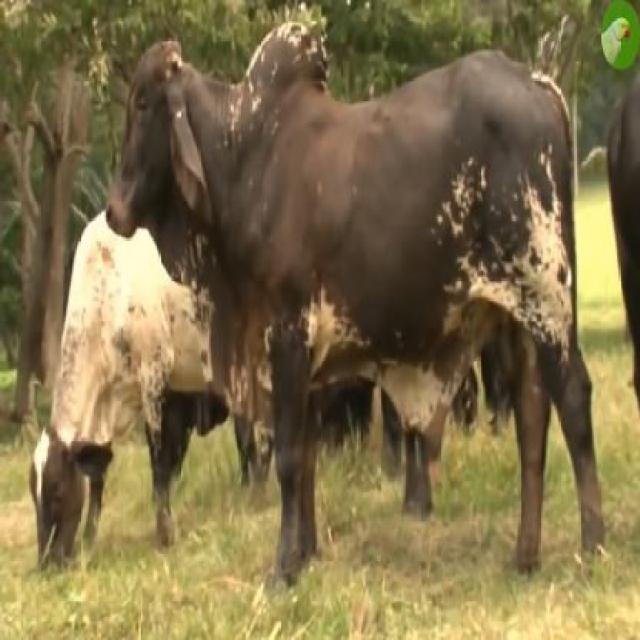Cow: (106, 18, 603, 570)
